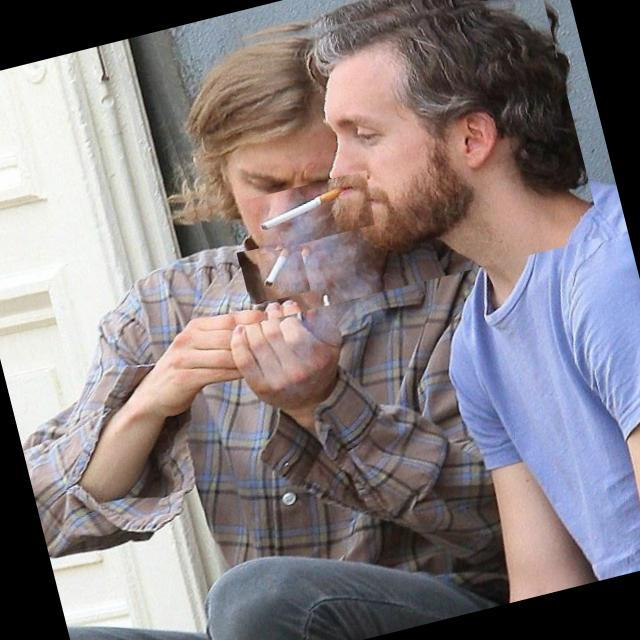cigarette: (246, 170, 380, 254), (237, 237, 310, 306)
